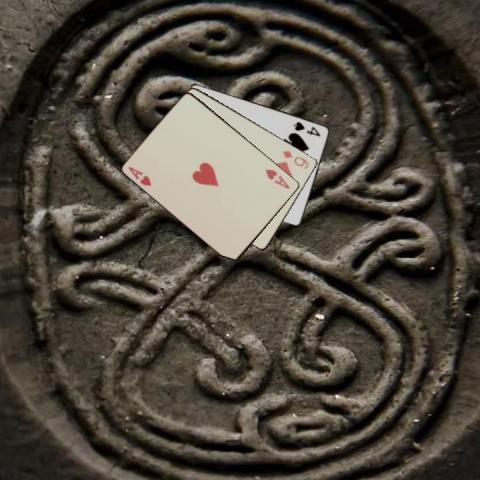4s: (292, 119, 322, 137)
6d: (280, 147, 311, 170)
Ah: (263, 166, 291, 191), (125, 163, 153, 188)
